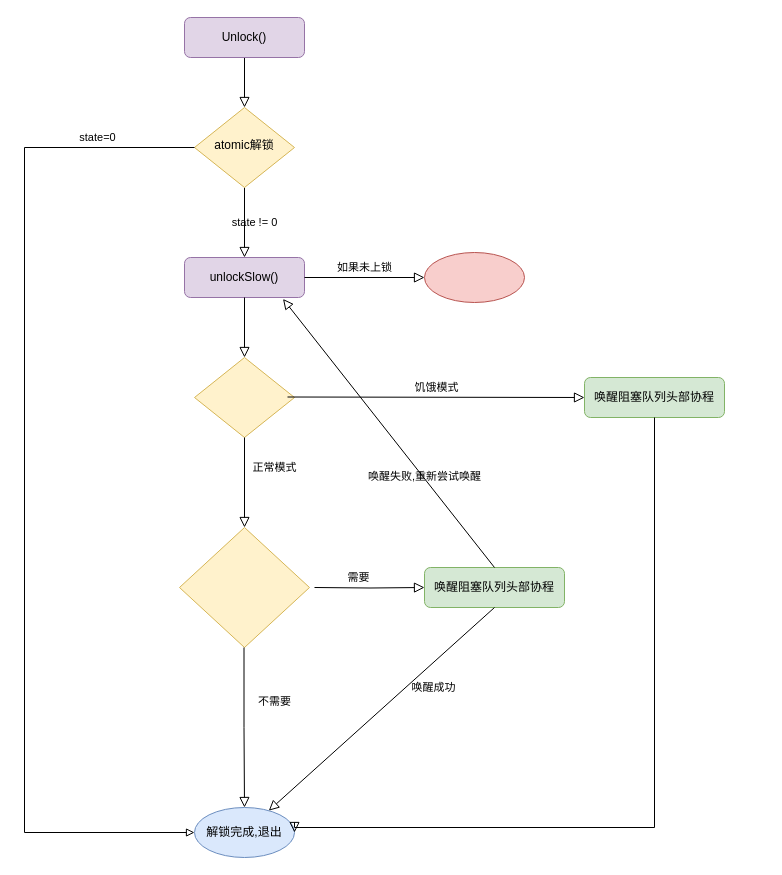
The diagram is 782 pixels wide and 875 high, and some of its shapes have lost their labels. Here are the shapes that lost their labels. From the top down, the centre of each, then its label:
At [474,277]: "Panic,终止程序".
At [244,397]: "判断模式".
At [244,587]: "判断是否需要唤醒等待协程".
